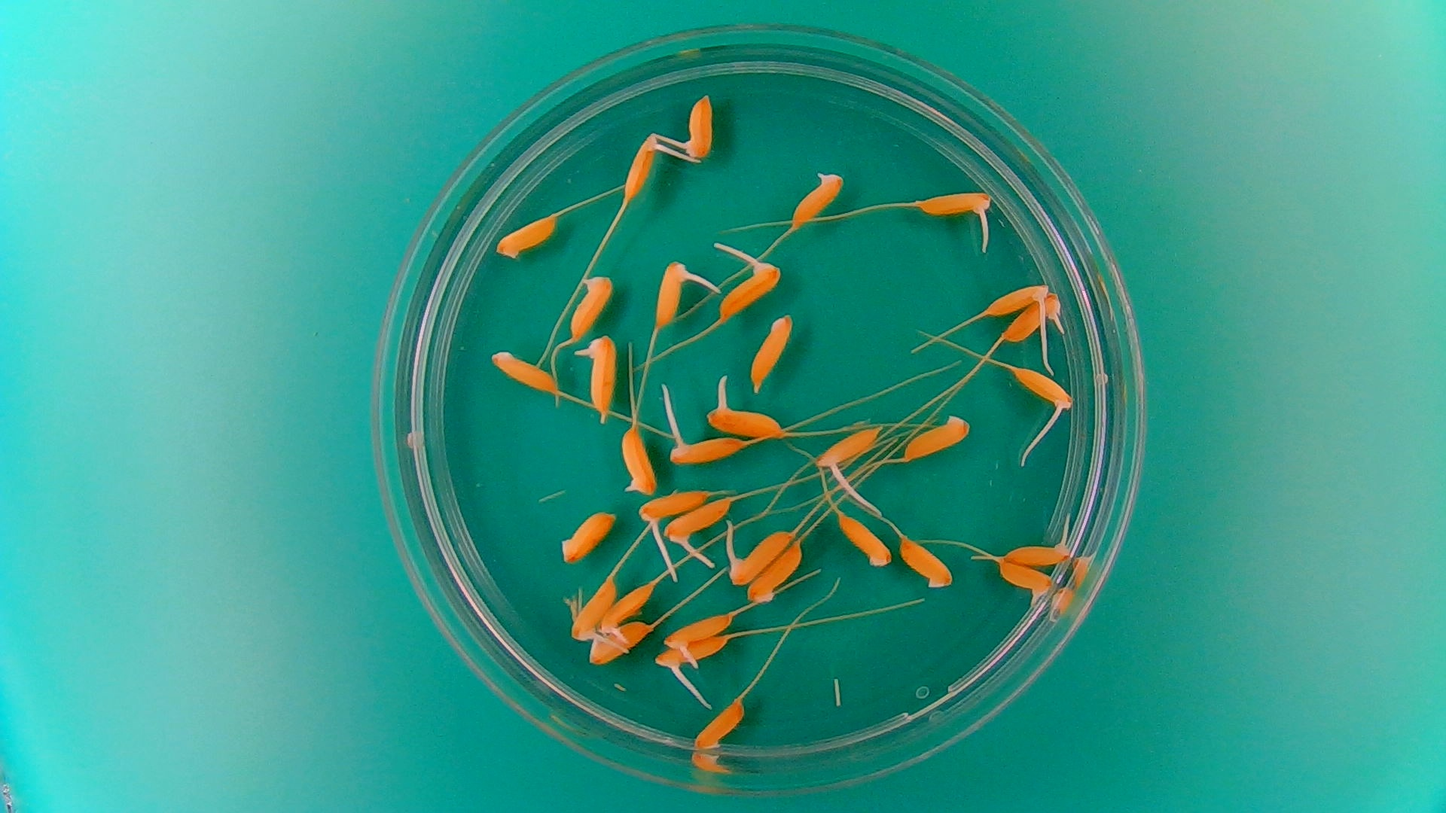no: (746, 538, 803, 604), (487, 345, 559, 396), (749, 310, 794, 390), (900, 412, 972, 461), (494, 211, 560, 262), (836, 511, 893, 568), (898, 536, 956, 590), (560, 508, 616, 563), (694, 695, 746, 752), (589, 620, 652, 666), (619, 425, 656, 496)
yes: (714, 246, 783, 321), (664, 493, 737, 553), (810, 422, 885, 479), (727, 525, 796, 585), (911, 187, 995, 230), (789, 167, 847, 227), (578, 333, 618, 419), (664, 428, 749, 468), (566, 272, 614, 342), (1011, 364, 1075, 416), (1001, 295, 1066, 345), (599, 578, 656, 635), (567, 575, 616, 641), (636, 487, 713, 528), (620, 129, 660, 204), (702, 403, 783, 440), (664, 611, 734, 653), (655, 635, 734, 671), (980, 280, 1054, 318), (997, 559, 1054, 604), (681, 90, 716, 163), (651, 260, 690, 325), (1000, 534, 1074, 568)
